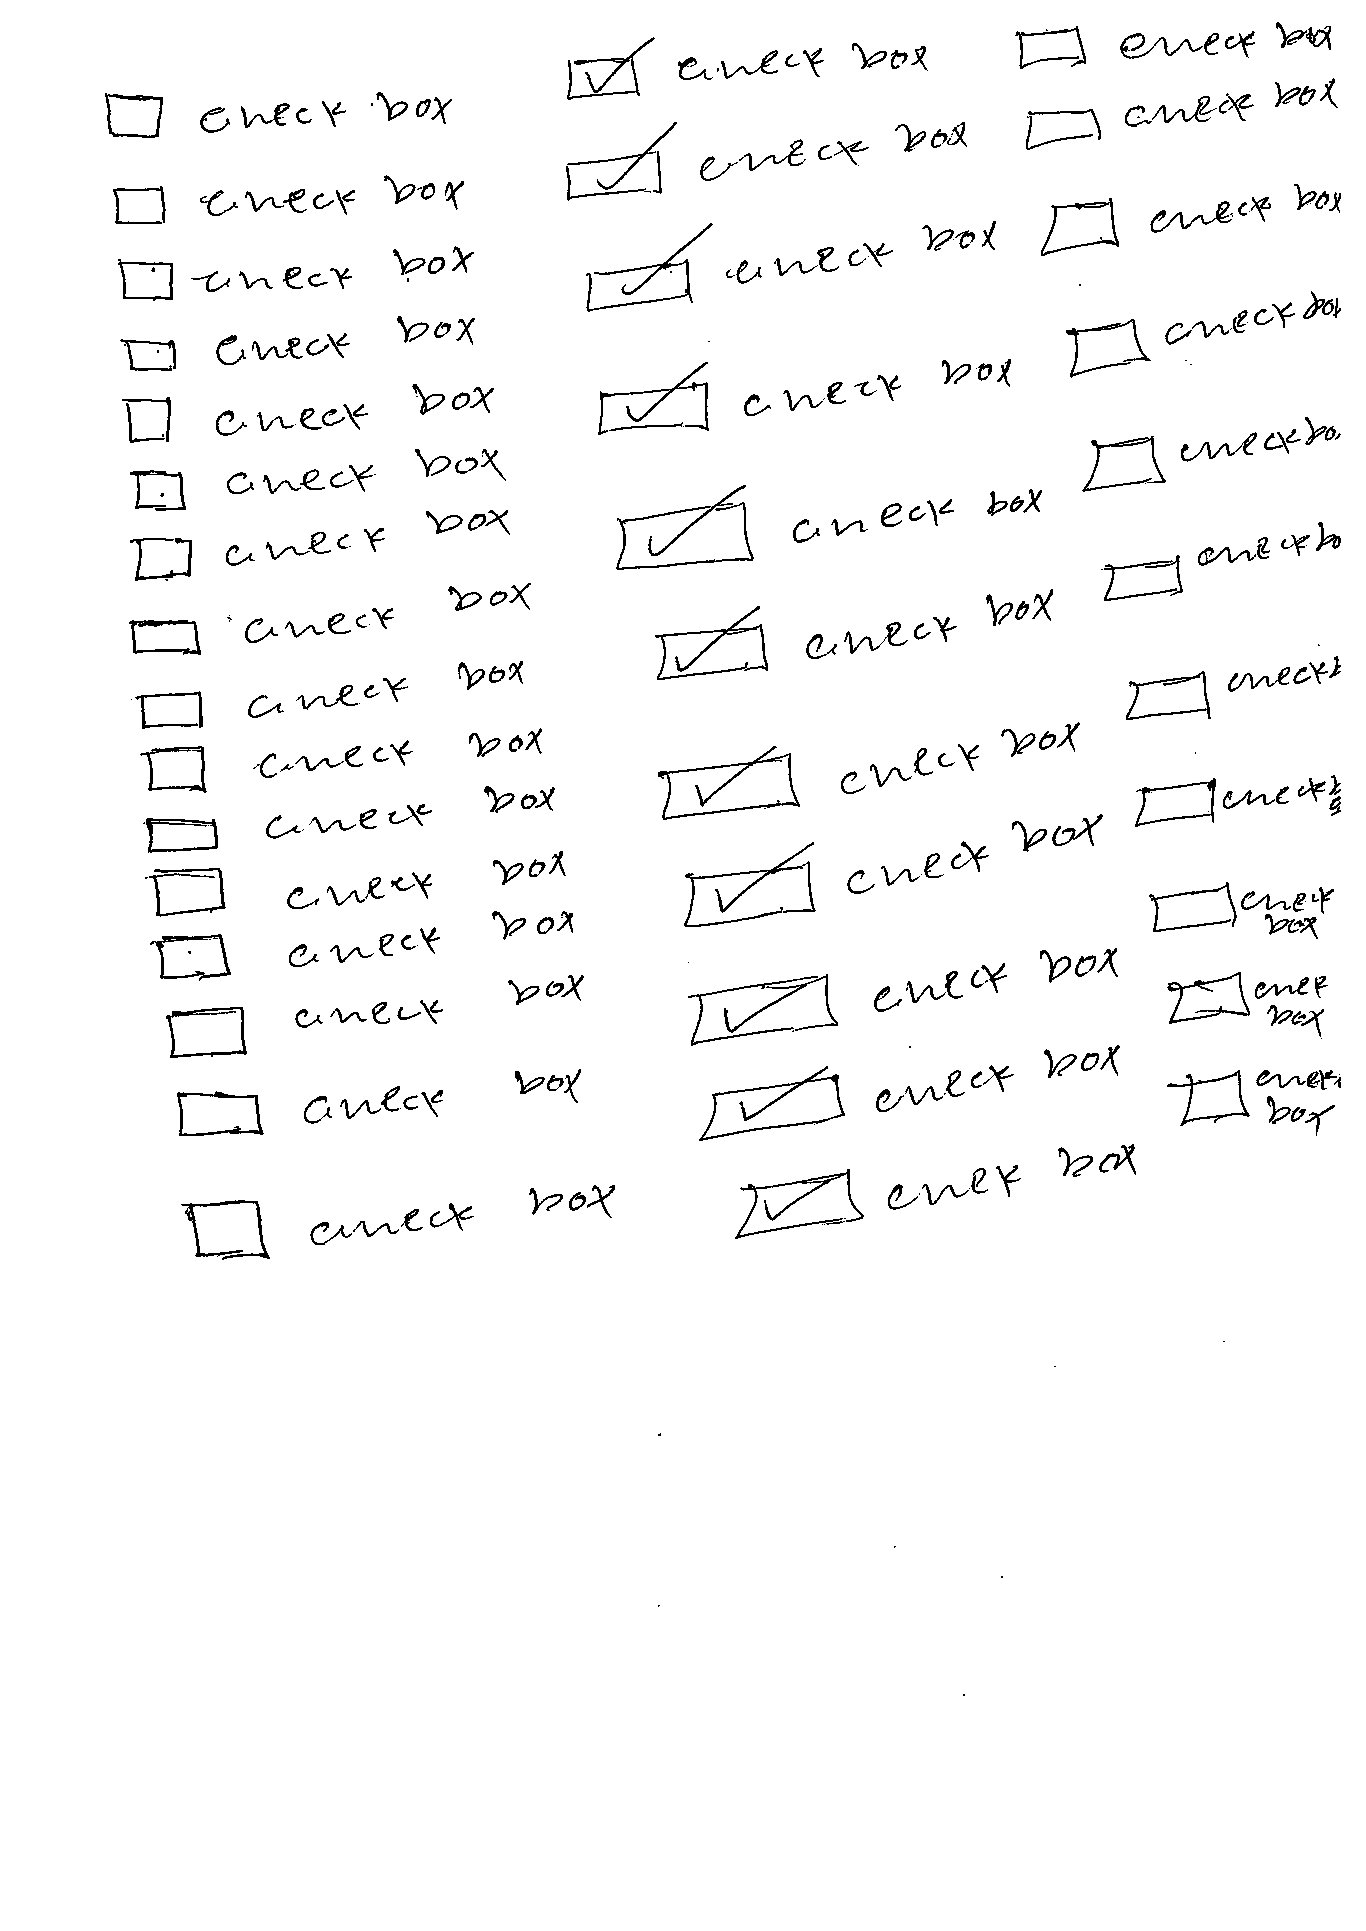Check Box: (687, 945, 1119, 1050), (735, 1141, 1137, 1242), (180, 1177, 619, 1263), (582, 223, 998, 313), (167, 980, 585, 1060), (562, 121, 967, 203), (597, 358, 1011, 436), (129, 580, 534, 654), (174, 1069, 581, 1138), (130, 509, 506, 583), (137, 659, 523, 730), (127, 447, 504, 513), (123, 381, 494, 447), (566, 34, 927, 101), (143, 730, 547, 787), (121, 313, 475, 373), (115, 245, 475, 302), (112, 172, 467, 228), (103, 93, 452, 140)
